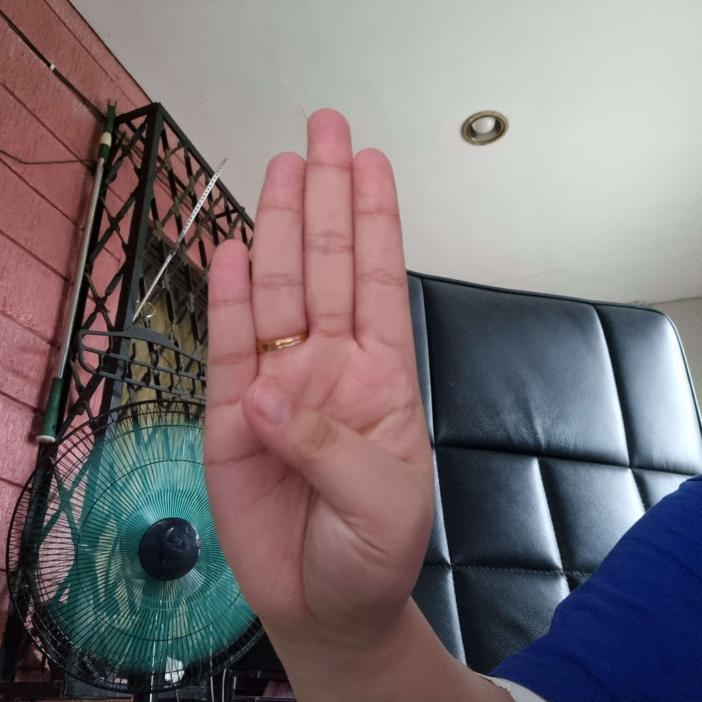b: (202, 108, 436, 650)
